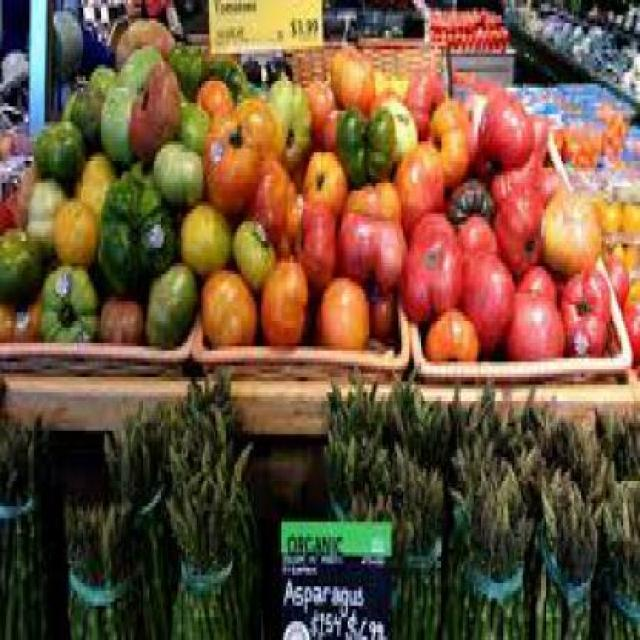BIODEGRADABLE: (161, 404, 254, 636), (101, 392, 179, 637), (448, 435, 528, 636), (375, 442, 440, 636), (532, 461, 598, 636), (62, 492, 142, 636), (95, 160, 177, 289), (0, 406, 42, 637), (335, 210, 403, 336), (591, 457, 638, 637), (518, 396, 596, 499), (322, 422, 390, 522), (476, 91, 538, 198), (448, 381, 524, 465), (398, 205, 457, 313), (273, 194, 335, 294), (128, 57, 182, 168), (203, 110, 259, 213), (539, 178, 599, 271), (458, 248, 514, 346), (379, 366, 444, 446), (247, 156, 299, 252), (395, 137, 442, 237), (59, 61, 113, 148), (174, 362, 234, 438), (38, 262, 96, 340), (492, 178, 540, 271), (314, 267, 369, 347), (170, 38, 242, 98), (561, 263, 610, 351), (426, 95, 474, 183), (265, 68, 309, 164), (201, 267, 256, 342), (258, 260, 307, 342), (144, 260, 193, 342), (503, 286, 562, 354), (176, 198, 229, 271), (31, 118, 84, 187), (329, 37, 376, 114), (324, 369, 382, 431), (0, 225, 48, 297), (422, 300, 478, 358), (230, 213, 272, 290), (234, 92, 284, 156), (152, 137, 202, 201), (50, 194, 96, 263), (594, 408, 638, 480), (430, 8, 508, 46), (322, 103, 363, 175), (403, 64, 445, 134), (98, 84, 137, 159), (301, 145, 348, 206), (113, 16, 173, 62), (445, 174, 493, 228), (95, 286, 143, 340), (378, 95, 416, 160), (362, 103, 395, 175), (346, 175, 399, 217), (26, 175, 62, 236), (458, 210, 496, 267), (304, 72, 336, 137), (75, 152, 112, 206), (0, 163, 31, 226), (116, 45, 164, 84), (194, 72, 228, 121), (516, 259, 553, 301), (177, 100, 208, 148), (603, 107, 628, 164), (371, 290, 395, 336), (374, 68, 408, 100), (605, 252, 627, 300), (620, 293, 638, 350), (17, 293, 37, 339), (574, 129, 601, 160), (528, 111, 544, 160), (552, 125, 577, 156), (262, 57, 288, 85), (595, 198, 620, 225), (0, 296, 15, 332), (239, 53, 256, 84), (621, 202, 636, 224), (0, 125, 11, 153), (630, 270, 638, 298)
